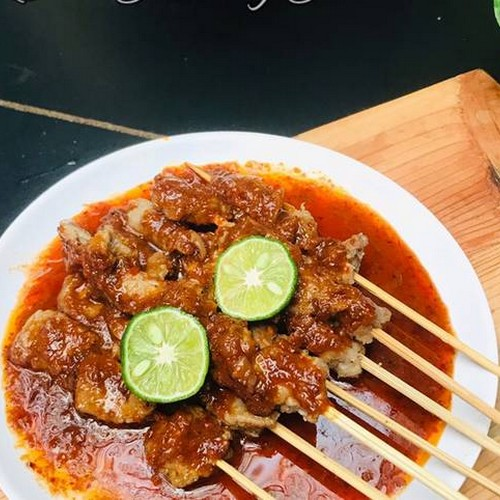sate plecing: (52, 215, 378, 418), (16, 305, 259, 480)
